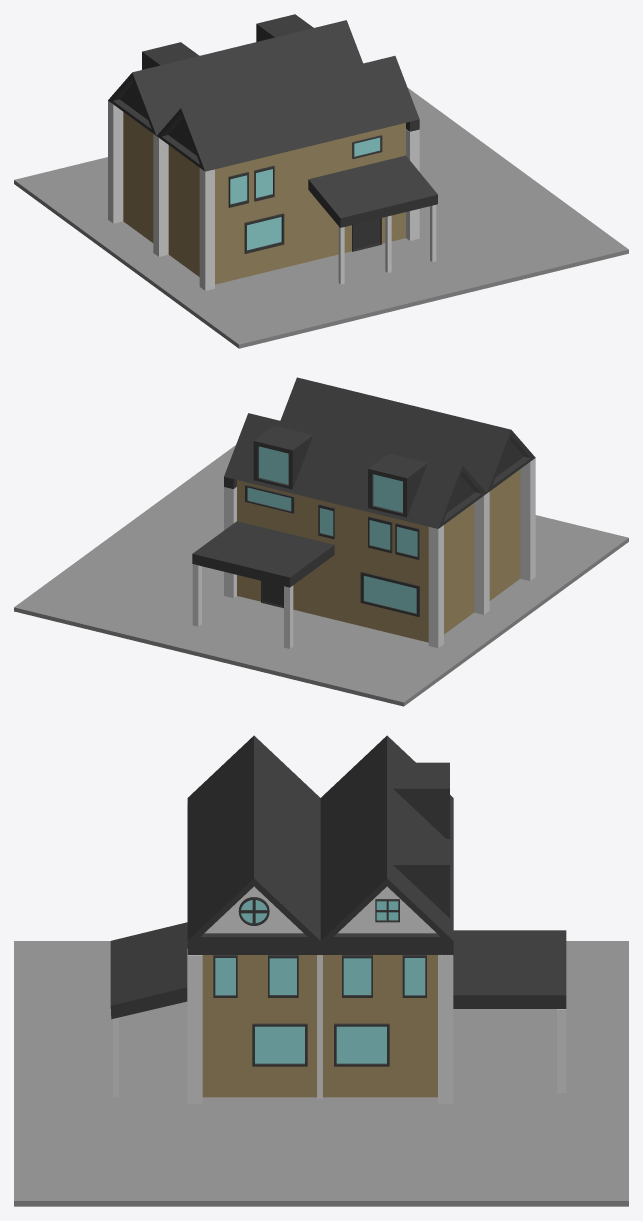
Rendered from angie huis4.fbx.
3 views of the same model, one above another, from view 1: azimuth 30°, elevation 25°; view 2: azimuth 150°, elevation 25°; view 3: azimuth 270°, elevation 25° (orthographic). The views are drawn at different scales.
Parts seen in each view (by area): view 1: Cube.015, Cube, Cylinder, Cylinder.001, Cube.001, Cube.005, Cube.006, Cube.004, Cube.025, Cube.040, Cube.041, Cube.002 (+4 smaller); view 2: Cube.015, Cube, Cylinder, Cylinder.001, Cube.029, Cube.040, Cube.041, Cube.035, Cube.004, Cube.006, Cube.005, Cube.036 (+7 smaller); view 3: Cube.015, Cube, Cylinder, Cylinder.001, Cube.029, Cube.001, Cube.007, Cube.041, Cube.040, Cube.018, Cube.023, Cube.002 (+7 smaller).
Boxes of the visible parts, x1,y1,x2,y2 form: Cube.015: [14, 88, 628, 348]; Cube: [123, 112, 405, 284]; Cylinder: [157, 56, 419, 171]; Cylinder.001: [108, 20, 363, 135]; Cube.001: [308, 155, 437, 227]; Cube.005: [199, 168, 214, 290]; Cube.006: [153, 134, 168, 256]; Cube.004: [108, 101, 123, 223]; Cube.025: [244, 213, 284, 253]; Cube.040: [256, 14, 313, 41]; Cube.041: [142, 42, 199, 69]; Cube.002: [406, 129, 419, 240]; Cube.015: [14, 445, 628, 706]; Cube: [237, 469, 520, 642]; Cylinder: [280, 377, 535, 492]; Cylinder.001: [224, 413, 486, 528]; Cube.029: [192, 521, 334, 587]; Cube.040: [253, 425, 313, 489]; Cube.041: [368, 453, 427, 517]; Cube.035: [360, 571, 419, 616]; Cube.004: [428, 525, 443, 648]; Cube.006: [474, 492, 489, 614]; Cube.005: [520, 458, 535, 580]; Cube.036: [245, 485, 294, 513]; Cube.015: [14, 941, 628, 1206]; Cube: [202, 955, 437, 1097]; Cylinder: [187, 735, 320, 940]; Cylinder.001: [320, 735, 453, 940]; Cube.029: [453, 930, 566, 1008]; Cube.001: [110, 922, 187, 1019]; Cube.007: [187, 941, 453, 954]; Cube.041: [393, 762, 449, 838]; Cube.040: [393, 839, 449, 917]; Cube.018: [252, 1023, 307, 1066]; Cube.023: [334, 1023, 389, 1066]; Cube.002: [187, 949, 202, 1103].
Size of the model in its own units: 4000 by 1752 by 4000.
